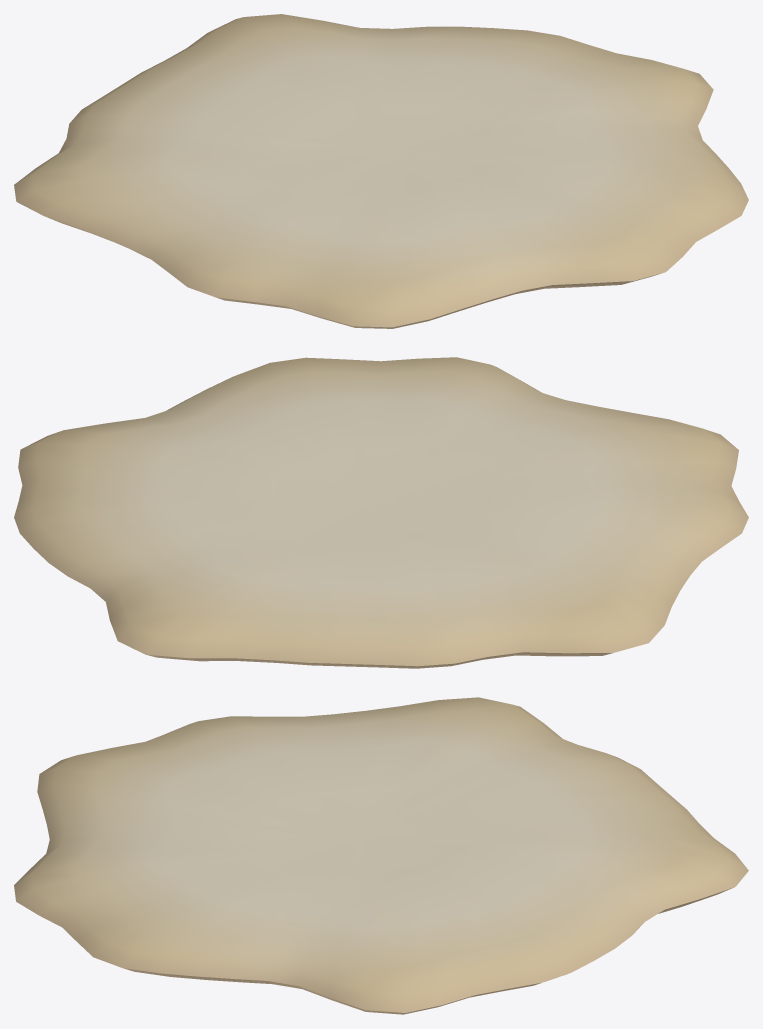
File: condensed.glb
3 views of the same model, one above another, from view 1: azimuth 30°, elevation 25°; view 2: azimuth 150°, elevation 25°; view 3: azimuth 270°, elevation 25° (orthographic). The views are drawn at different scales.
Parts seen in each view (by area): view 1: body; view 2: body; view 3: body.
Part boxes in pixels (x1,y1,x2,y2): body: (14, 14, 748, 328); body: (14, 357, 748, 668); body: (14, 697, 748, 1014).
Size of the model in its own units: 0.9625 by 0.0499 by 0.9523.
